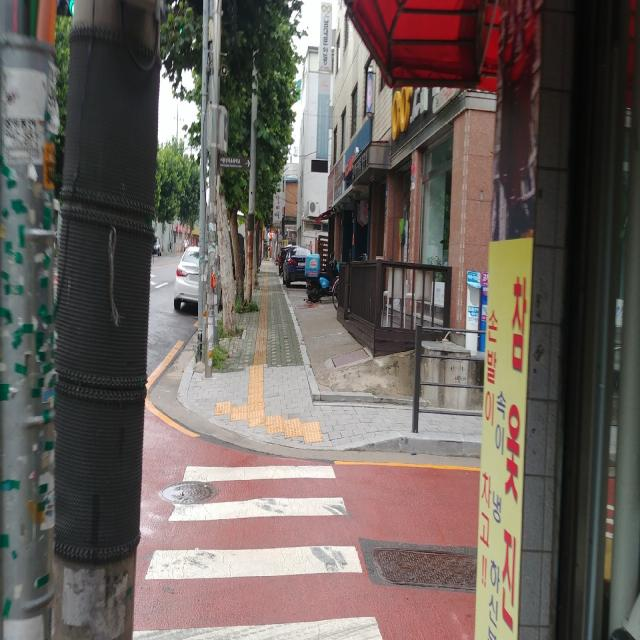횡단보도: (131, 461, 385, 640)
